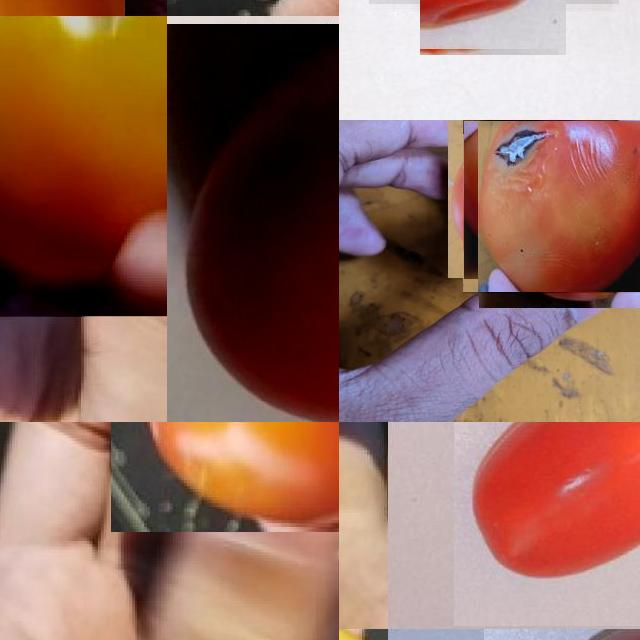1: (463, 120, 640, 292)
Fresh Tomato: (167, 24, 339, 422), (121, 422, 339, 542)
Rotten Tomato: (0, 16, 167, 316)
